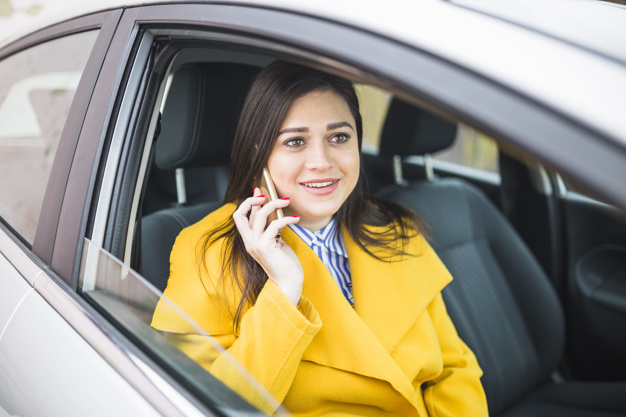phone: (231, 145, 300, 252)
talk: (231, 113, 361, 286)
